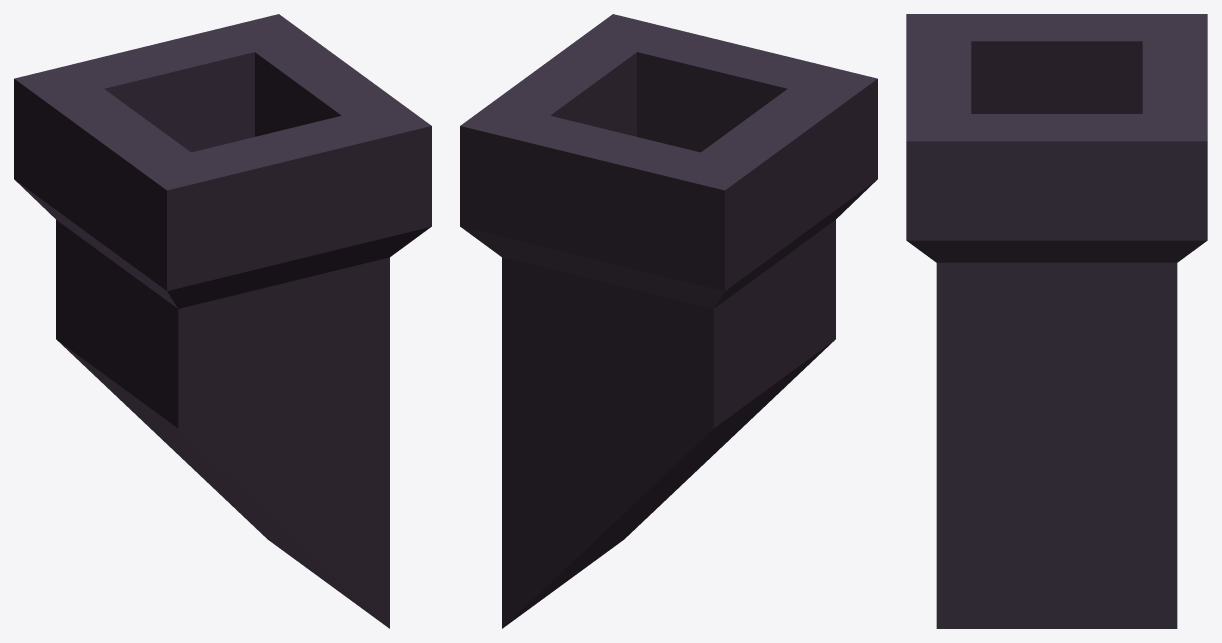
File: Chimney01_Black.glb
The picture shows the model from 3 angles, left to right: view 1: azimuth 30°, elevation 25°; view 2: azimuth 150°, elevation 25°; view 3: azimuth 270°, elevation 25°; orthographic projection.
Visible parts, largest first — view 1: Chimney01_Black; view 2: Chimney01_Black; view 3: Chimney01_Black.
Boxes of the visible parts, bbox=[...] form: Chimney01_Black: bbox=[14, 14, 431, 628]; Chimney01_Black: bbox=[460, 14, 877, 628]; Chimney01_Black: bbox=[906, 14, 1207, 628].
Size of the model in its own units: 0.6225 by 1.14 by 0.6225.
Materials: 1 (1 with a texture image).
